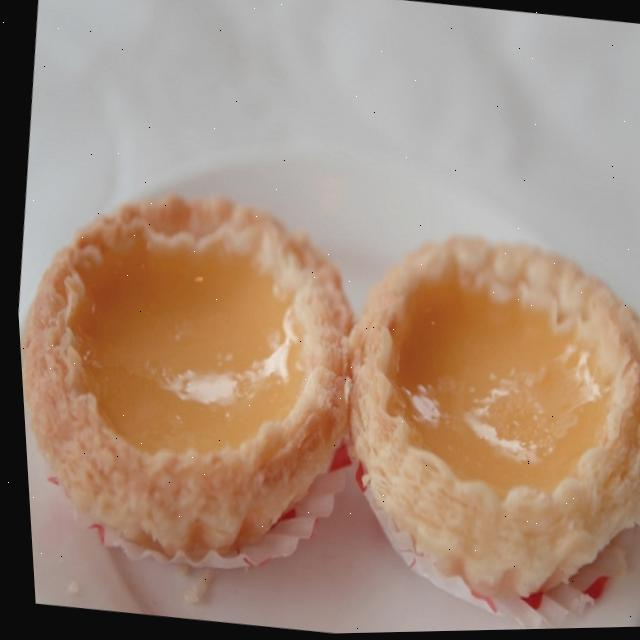炸货点心: (4, 73, 640, 640)
蛋糕甜品: (4, 73, 640, 640)
